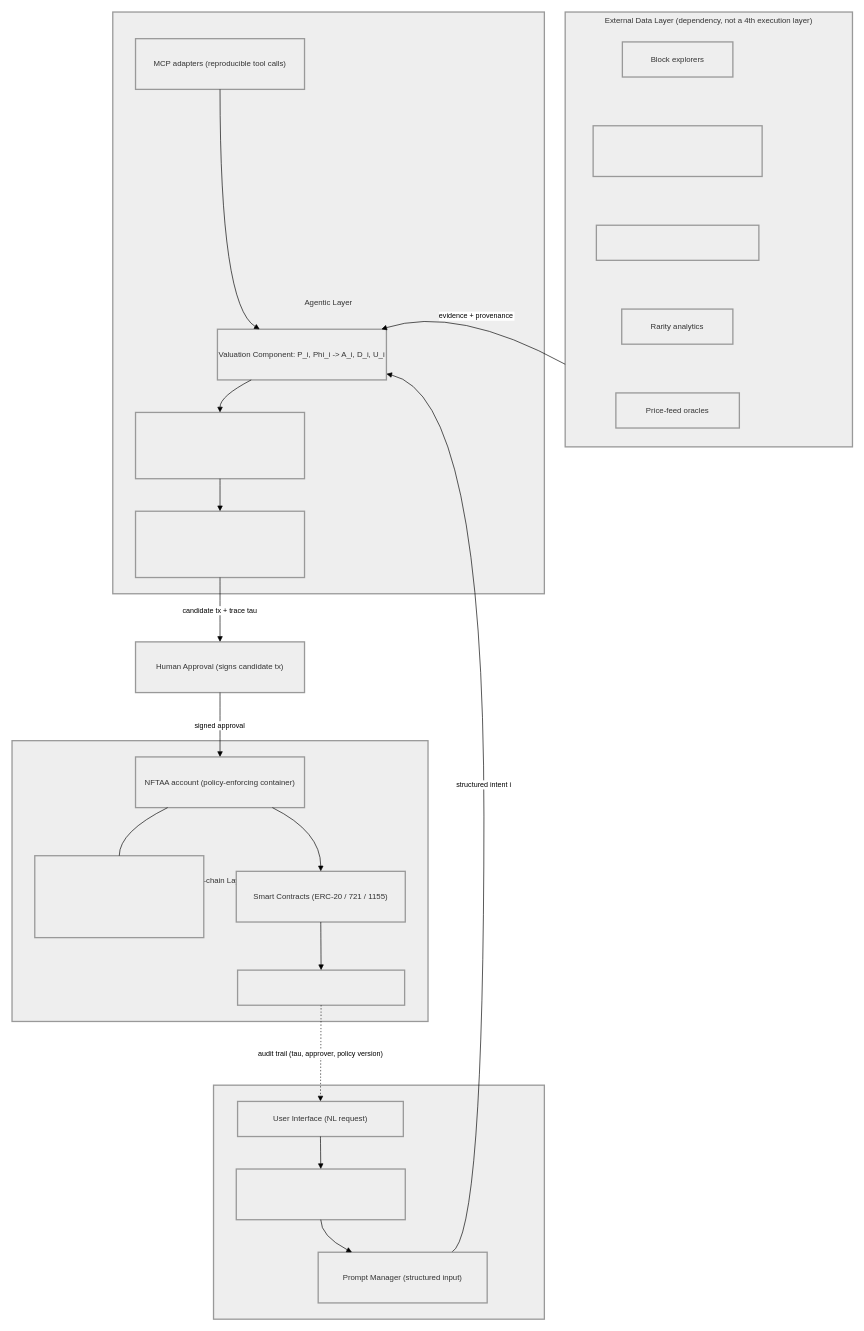
Image size: 864x1331. Some labels were removed from this diagram. The shapes that lost their labels are listed below. From the top down, each one's centre as x and y in pixels, then its label:
At [677,151]: "IPFS / decentralised storage".
At [677,242]: "Marketplaces and indexers".
At [220,445]: "Decision Component: assemble trace tau, deterministic validation".
At [220,544]: "Transaction Preparation: build + simulate candidate tx".
At [119,896]: "Account Policy: actor, asset, selector, amount, deadline, trace link, revocation".
At [321,987]: "Event interfaces (audit log)".
At [320,1194]: "Authentication + Authorisation".
